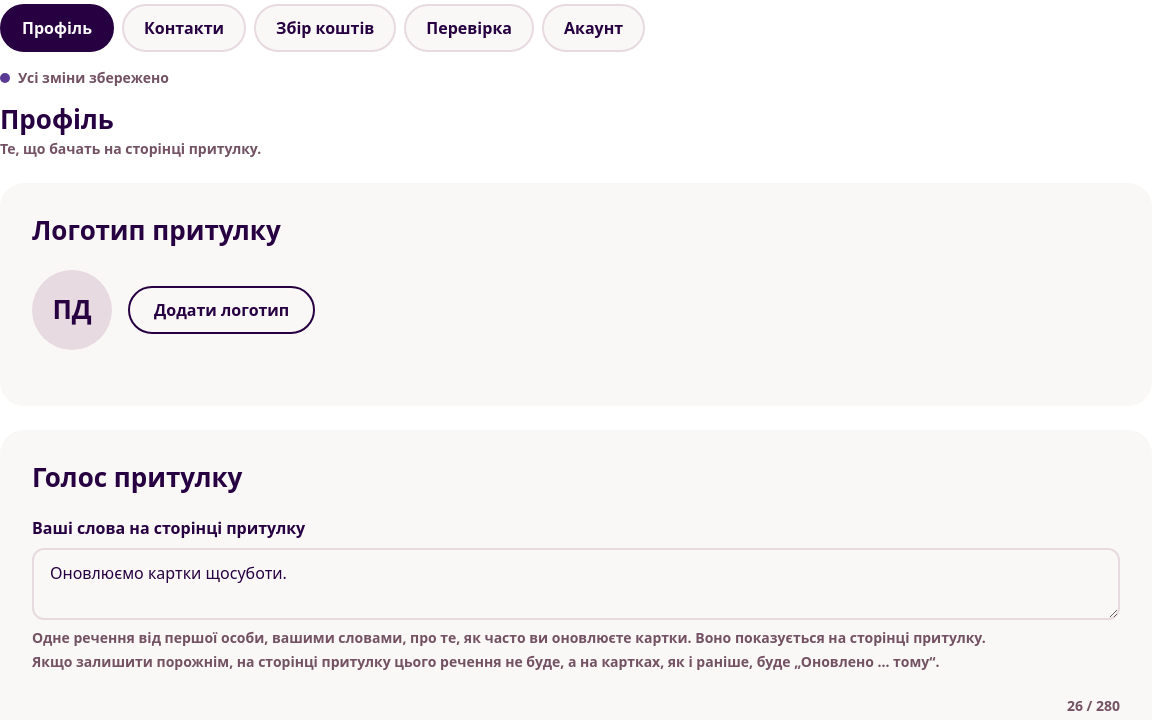
Scenario: contacts (answer 3, answer 4) › refuses to save with no channel at all
Click the tab "Контакти": [184, 28] box [122,4,246,52]
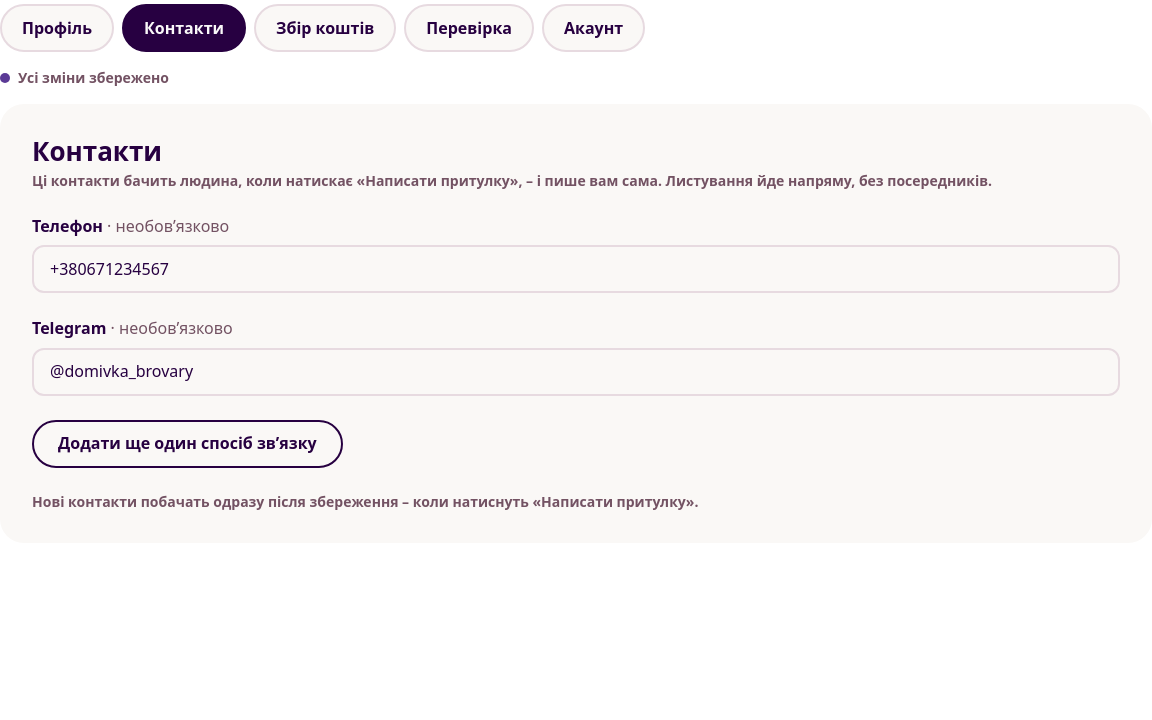
Clear the field labelled "Телефон · необовʼязково": [576, 269] box [32,245,1120,293]
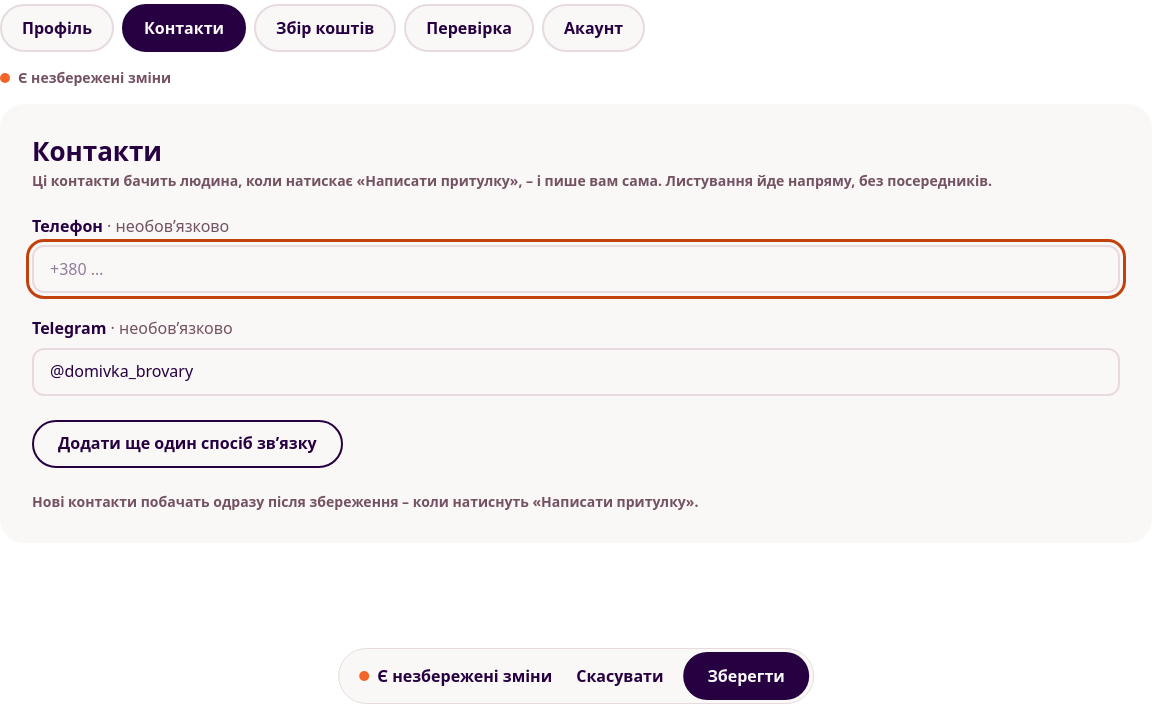
Clear the field labelled "Telegram · необовʼязково": [576, 372] box [32,348,1120,396]
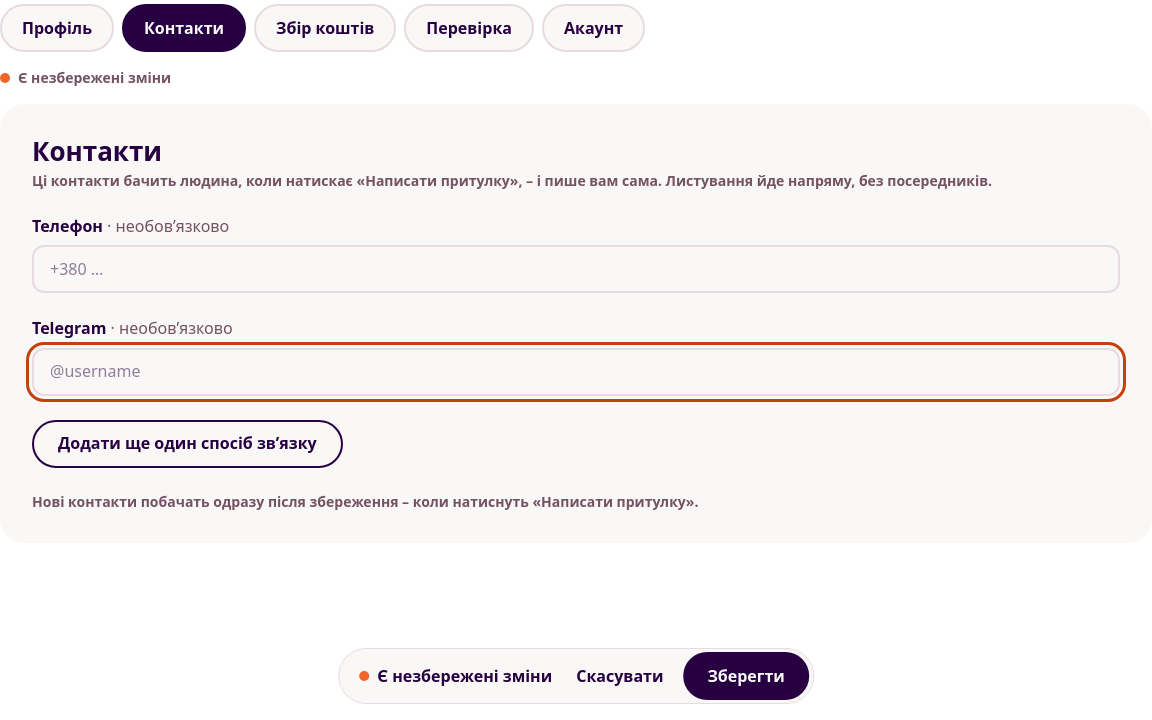
Click the button "Зберегти": [746, 676] box [683,652,809,700]
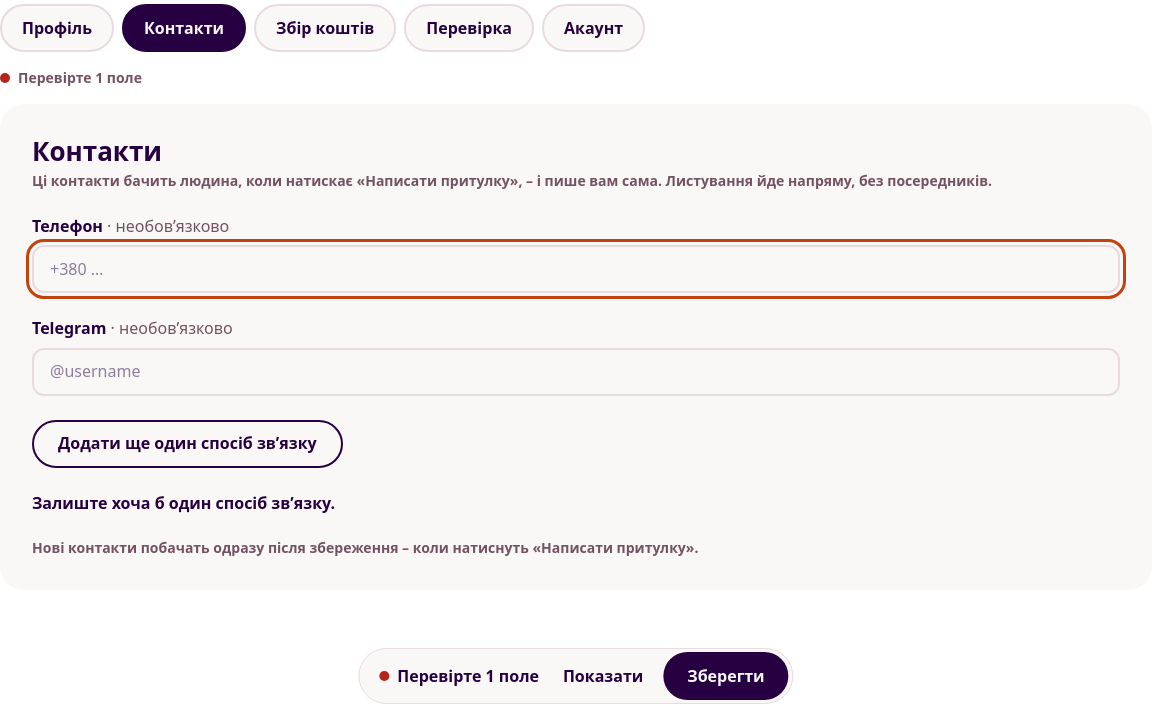
Check: the message "Залиште хоча б один спосіб звʼязку." is shown, box [32,492,335,514]
